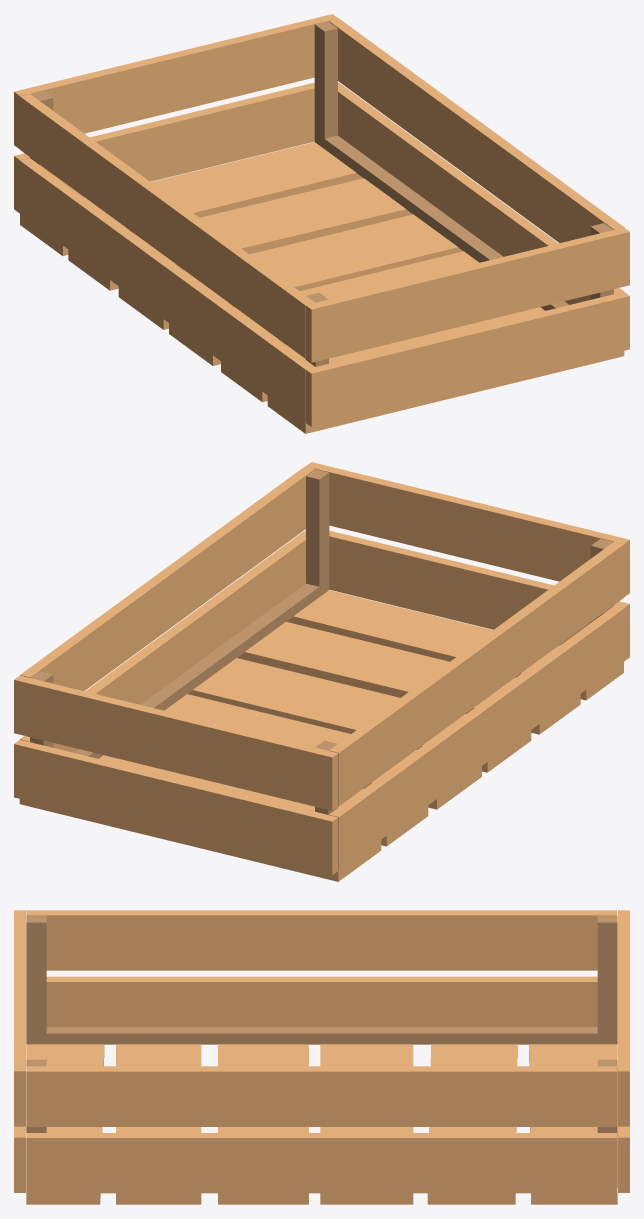
The picture shows the model from 3 angles, top to bottom: view 1: azimuth 30°, elevation 25°; view 2: azimuth 150°, elevation 25°; view 3: azimuth 270°, elevation 25°; orthographic projection. The views are drawn at different scales.
Parts seen in each view (by area): view 1: crates.012; view 2: crates.012; view 3: crates.012.
Part boxes in pixels (x1,y1,x2,y2): crates.012: (14,14,629,433); crates.012: (14,462,629,881); crates.012: (14,910,629,1204).
Size of the model in its own units: 161 by 62.22 by 260.
